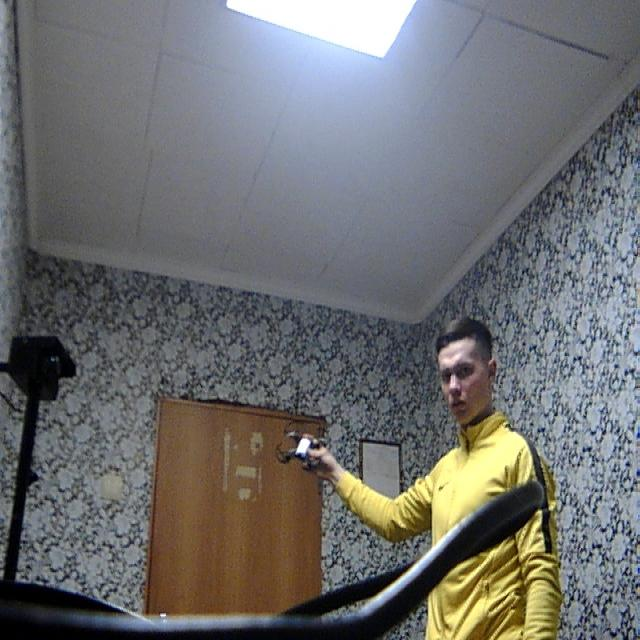drone: (273, 403, 338, 489)
